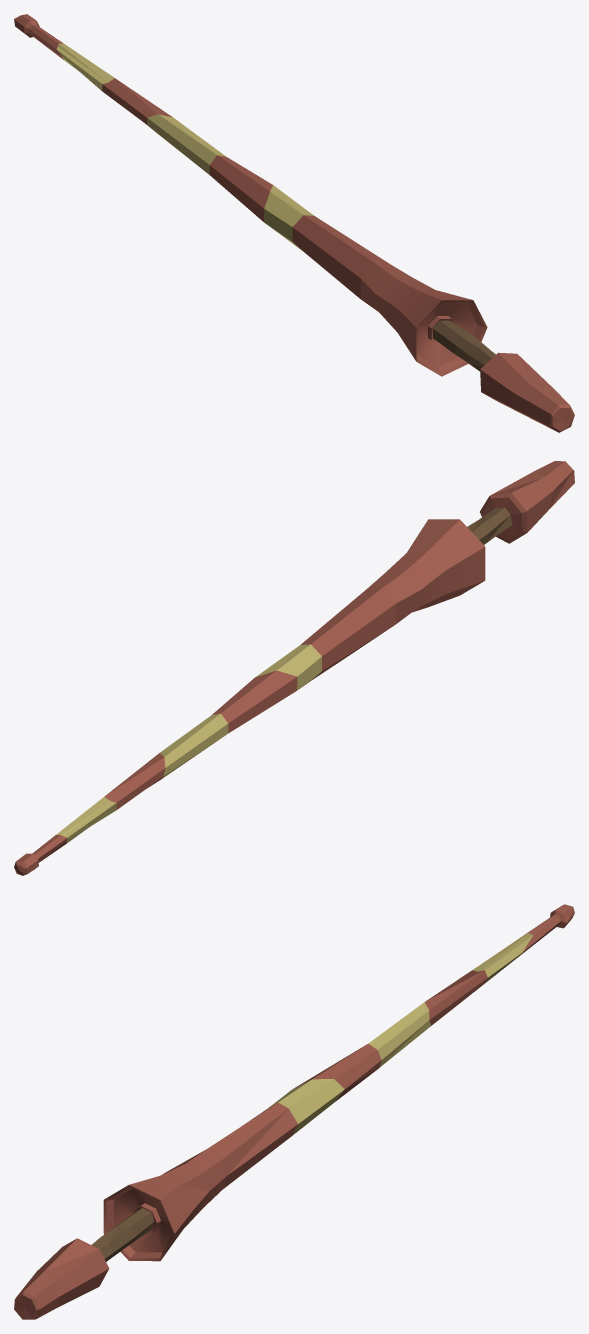
The model's file is lance.fbx.
3 views of the same model, one above another, from view 1: azimuth 30°, elevation 25°; view 2: azimuth 150°, elevation 25°; view 3: azimuth 330°, elevation 25° (orthographic).
Visible parts, largest first — view 1: lance; view 2: lance; view 3: lance.
Boxes of the visible parts, x1,y1,x2,y2 form: lance: (14, 14, 574, 432); lance: (14, 461, 574, 875); lance: (14, 904, 574, 1319).
Bounding box in the file's own units: 0.293 × 0.3005 × 3.89.
